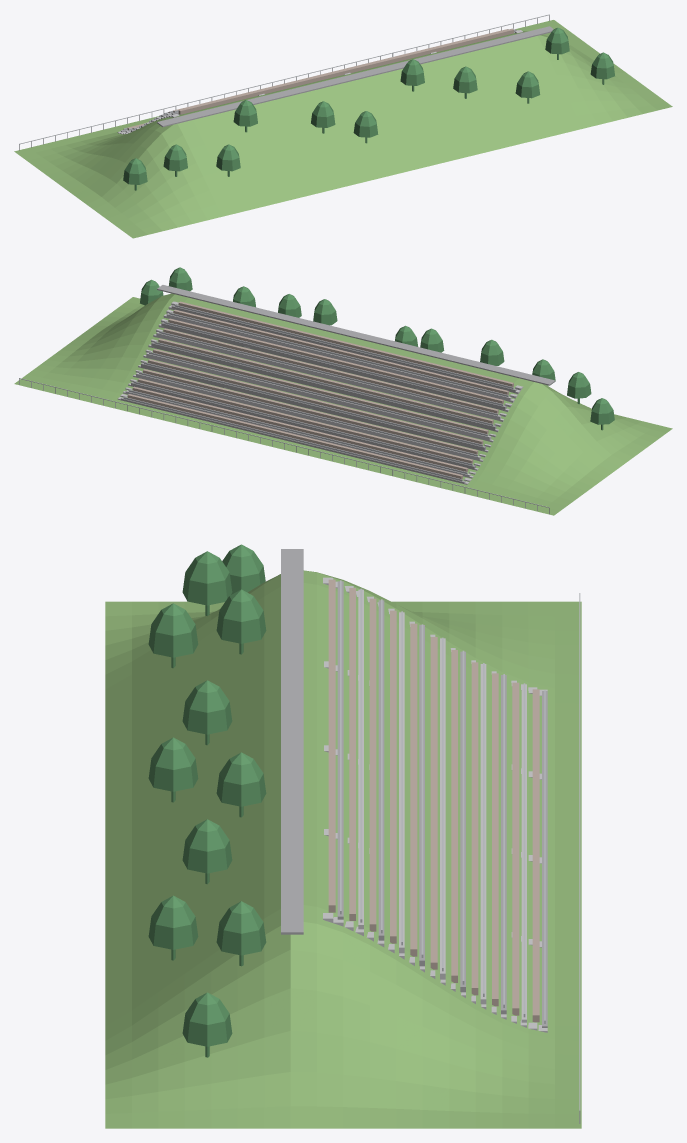
Rendered from hillside.glb.
3 views of the same model, one above another, from view 1: azimuth 30°, elevation 25°; view 2: azimuth 150°, elevation 25°; view 3: azimuth 270°, elevation 25° (orthographic). The views are drawn at different scales.
Parts seen in each view (by area): view 1: slope, terraces, trees; view 2: terraces, slope, trees; view 3: slope, terraces, trees.
Part boxes in pixels (x1,y1,x2,y2): slope: (14,20,672,238); terraces: (19,14,553,150); trees: (123,27,614,190); terraces: (19,285,555,514); slope: (14,293,672,515); trees: (140,267,614,430); slope: (105,570,581,1128); terraces: (281,549,580,1123); trees: (148,544,266,1057).
Bounding box in the file's own units: 220 × 30.36 × 83.99.
